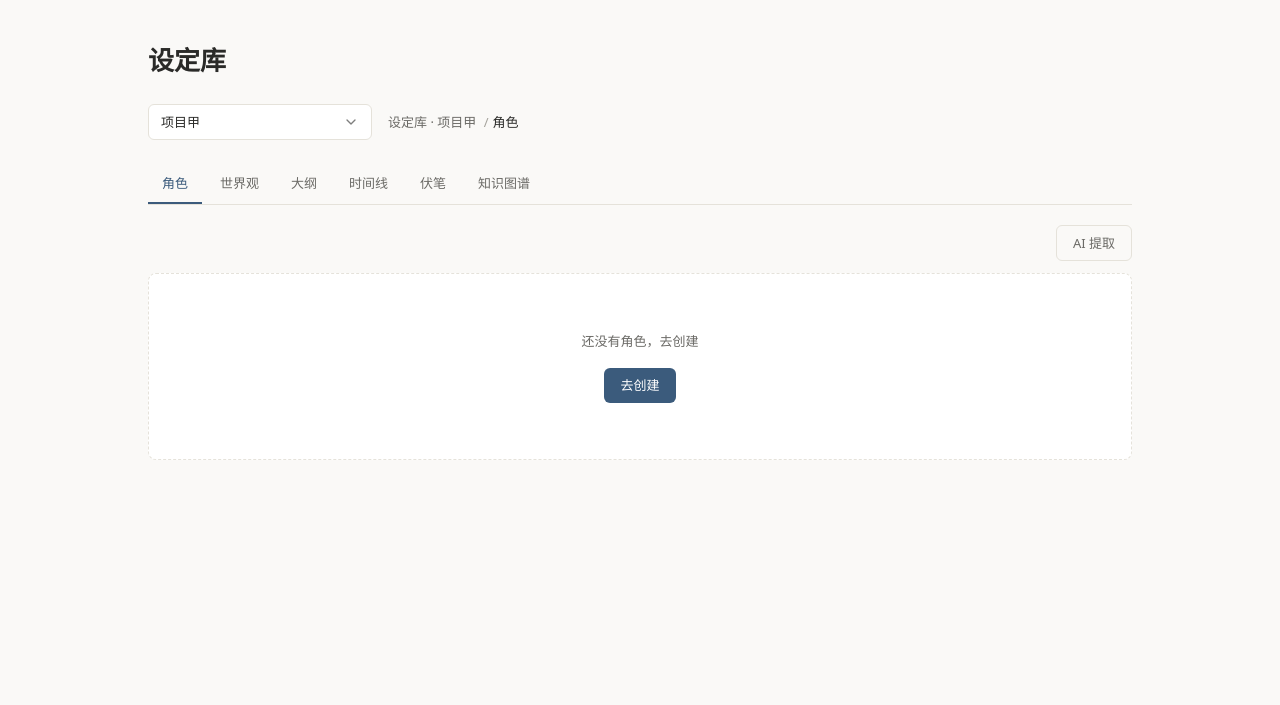
it: #1465-B 实体列表随类别过滤（N18②） › N18② 搜索与类别过滤取交集（搜索只在已勾选类别内收窄）
The image size is (1280, 705).
Click the tab "知识图谱".
click(504, 184)  # box [464,164,544,204]
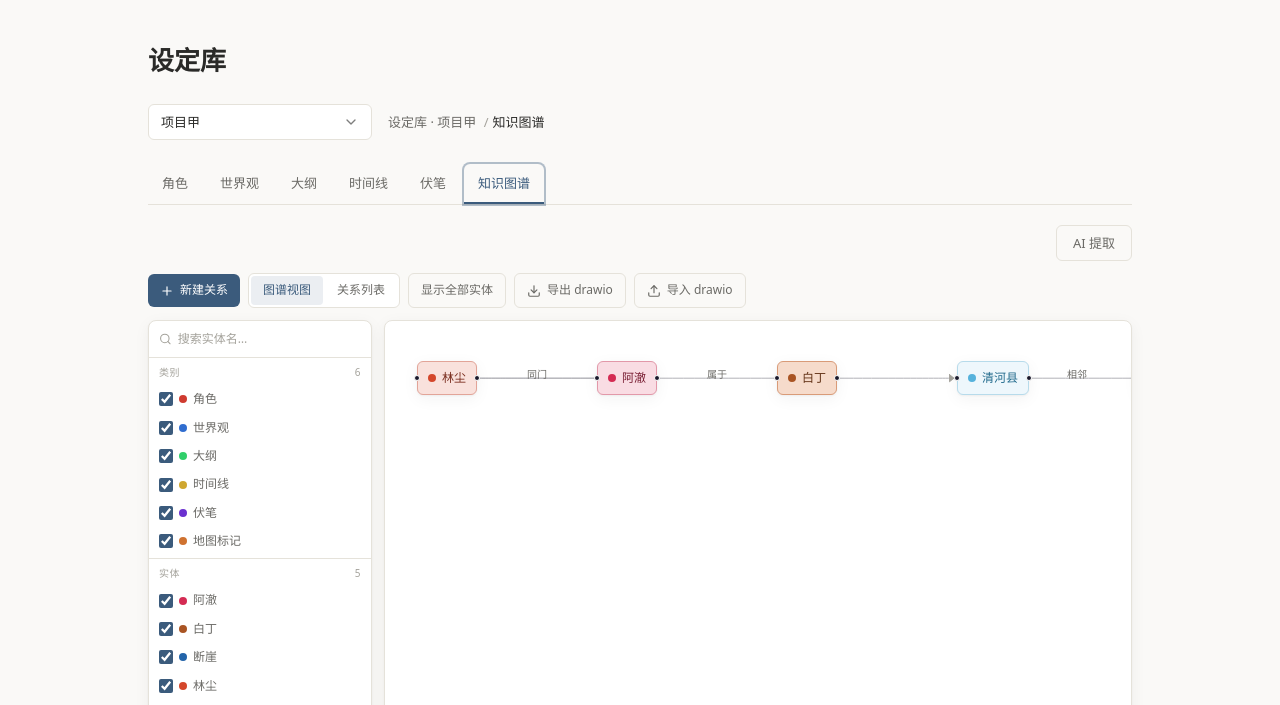
Check: the element with test id "library-kg-node-character-c1" is shown, box [417,361,477,395]
Click the checkbox with test id "library-kg-filter-panel-cat-character".
click(166, 399)  # box [159,392,173,406]
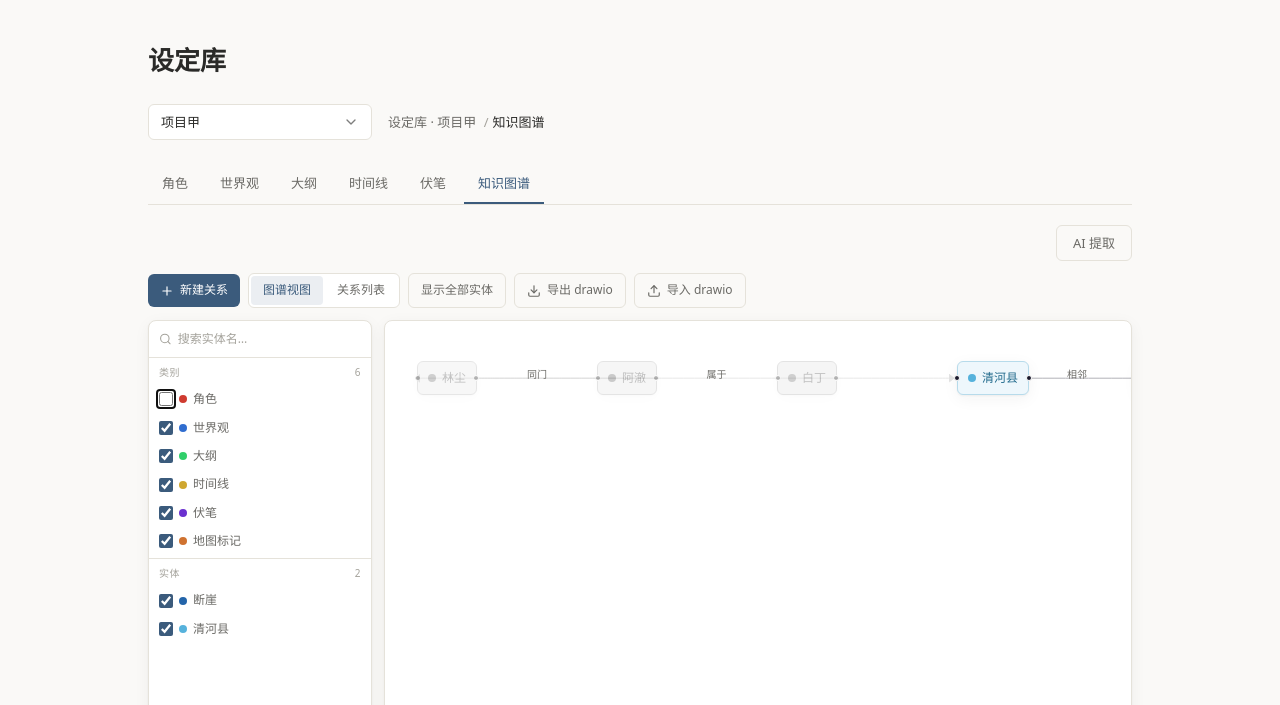
Type "断崖" into the field with test id "library-kg-filter-panel-search".
click(269, 339); type("断崖")  # box [178,329,361,349]
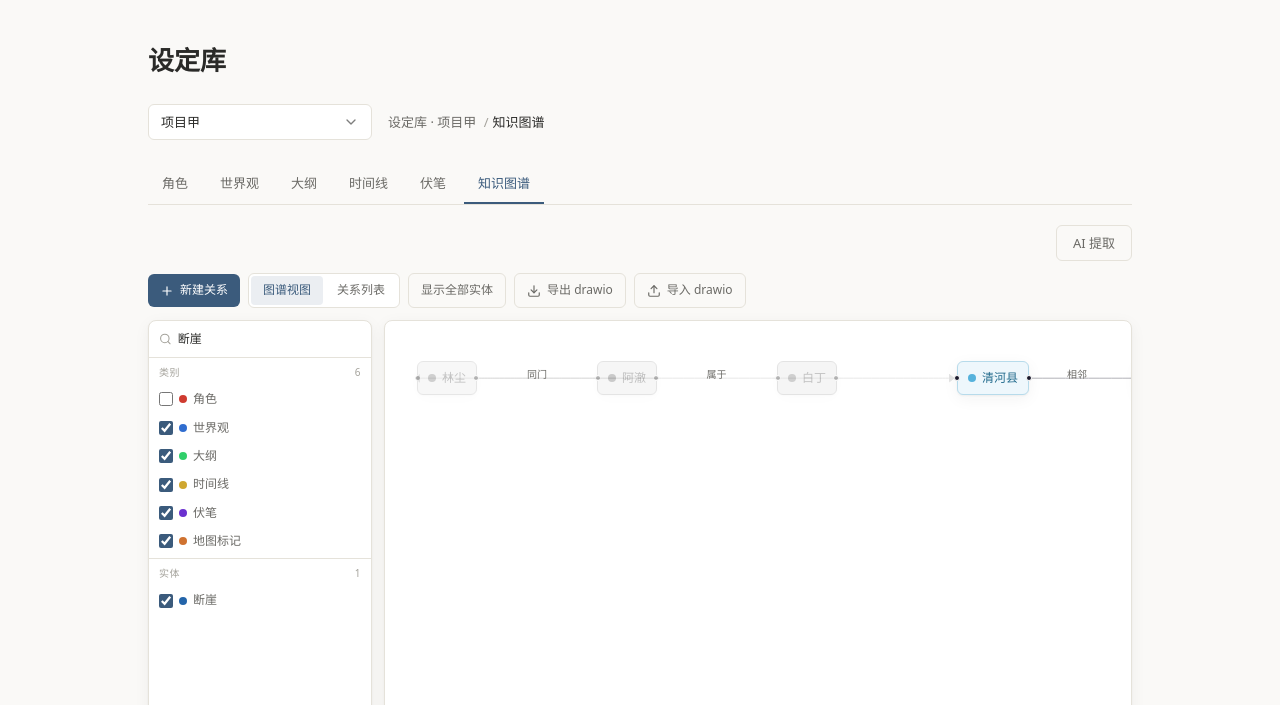
Check: the text "断崖" is shown, box [159,591,217,608]
Check: the label with test id "library-kg-filter-panel-entity-world-w1" is gone
